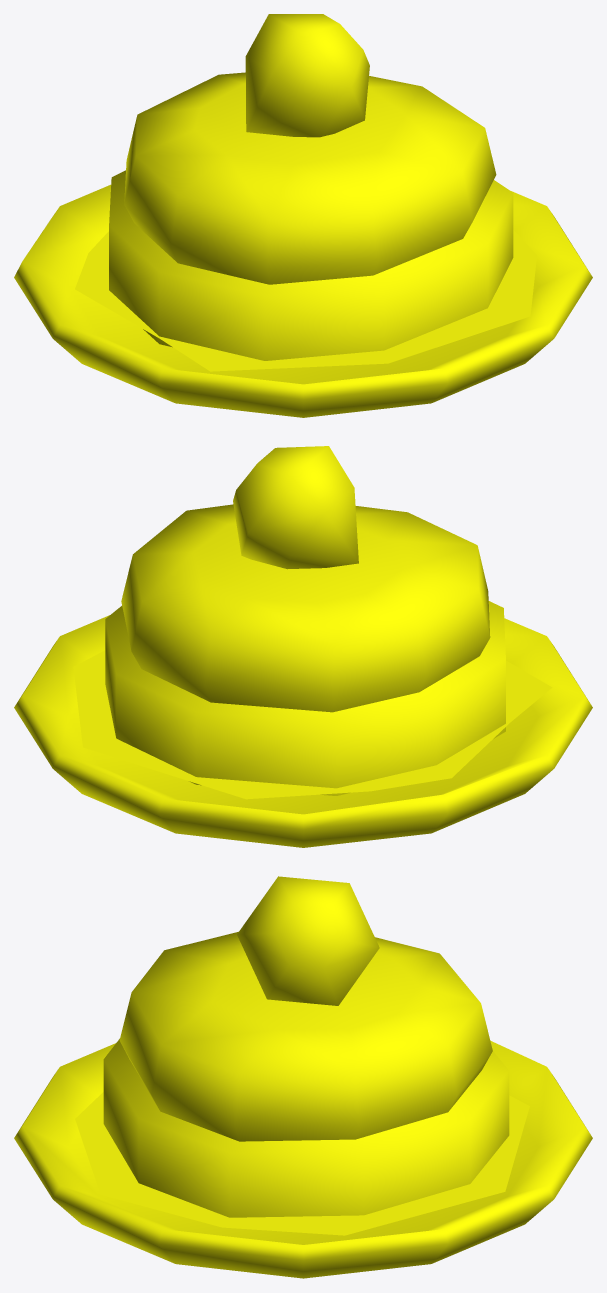
The model's file is 13_Food_Model.gltf.
3 renders of one model, top to bottom at view 1: azimuth 30°, elevation 25°; view 2: azimuth 150°, elevation 25°; view 3: azimuth 270°, elevation 25°, orthographic.
Parts seen in each view (by area): view 1: 13_Food_Model; view 2: 13_Food_Model; view 3: 13_Food_Model.
Part boxes in pixels (bbox=[...]): 13_Food_Model: bbox=[14, 14, 592, 417]; 13_Food_Model: bbox=[14, 446, 592, 847]; 13_Food_Model: bbox=[14, 876, 592, 1278].
Bounding box in the file's own units: 1.3 × 0.7136 × 1.3.
1 material, 1 textured.
